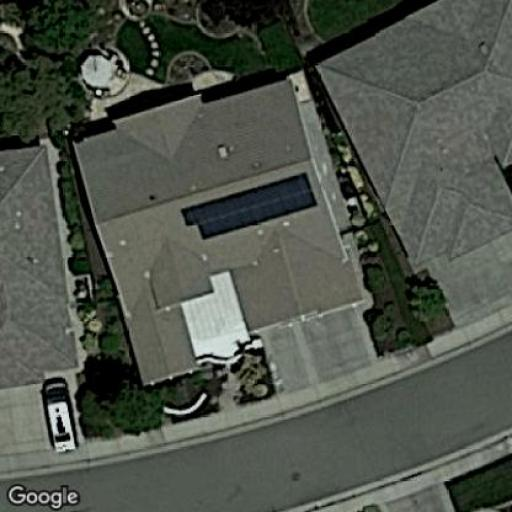solar-panel: (180, 171, 318, 239)
